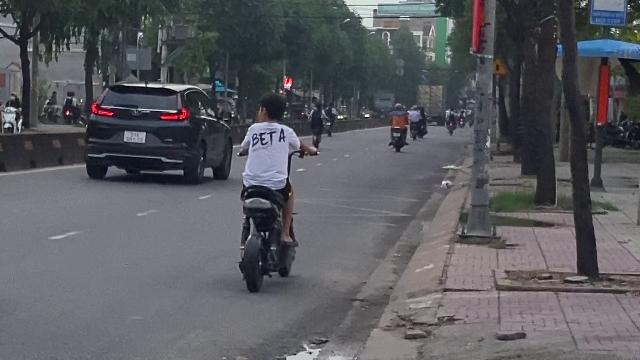motorcyclist: (230, 90, 306, 294)
nohelmet: (256, 91, 288, 123)
